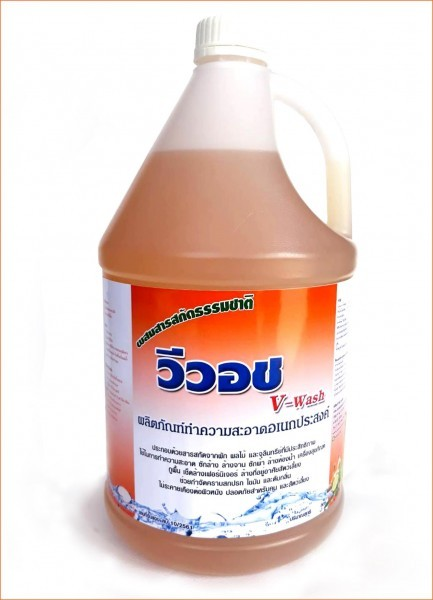Cleaning_solution: (92, 9, 365, 587)
